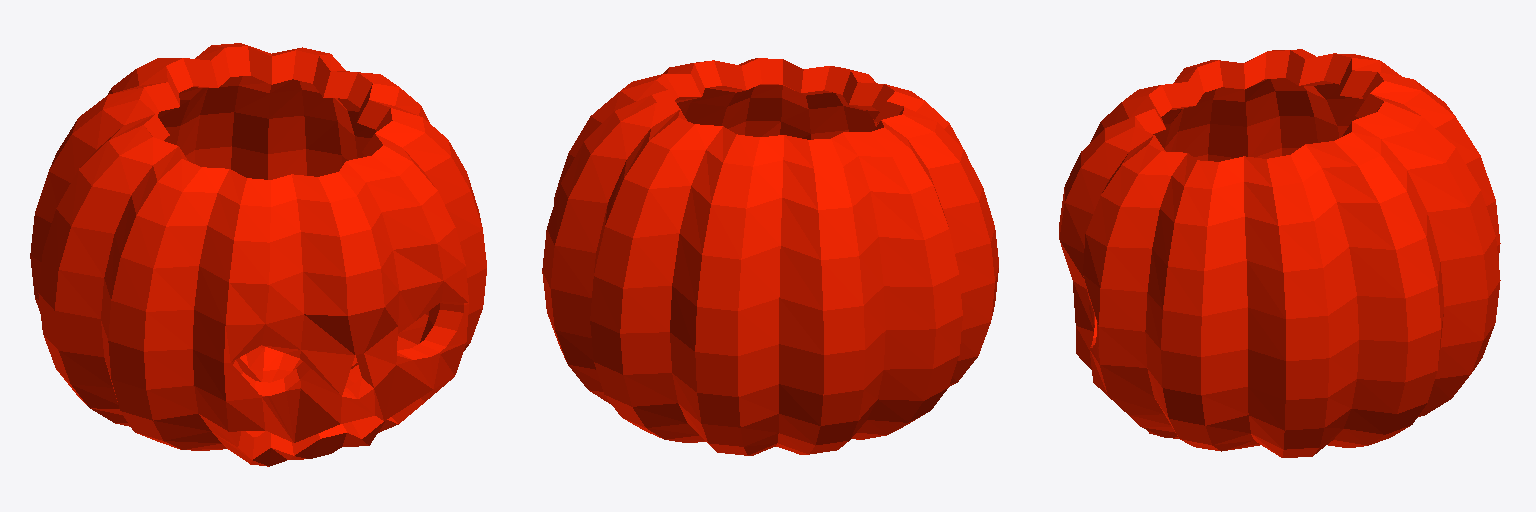
File: jackolantern_small.obj
3 views of the same model, side by side, from view 1: azimuth 30°, elevation 25°; view 2: azimuth 150°, elevation 25°; view 3: azimuth 270°, elevation 25° (orthographic).
Parts seen in each view (by area): view 1: jackolantern_small_Sphere.011; view 2: jackolantern_small_Sphere.011; view 3: jackolantern_small_Sphere.011.
Boxes of the visible parts, x1=… form: jackolantern_small_Sphere.011: x1=30, y1=43, x2=486, y2=466; jackolantern_small_Sphere.011: x1=542, y1=58, x2=998, y2=455; jackolantern_small_Sphere.011: x1=1059, y1=49, x2=1500, y2=457.
Size of the model in its own units: 0.9423 by 0.7499 by 0.9084.